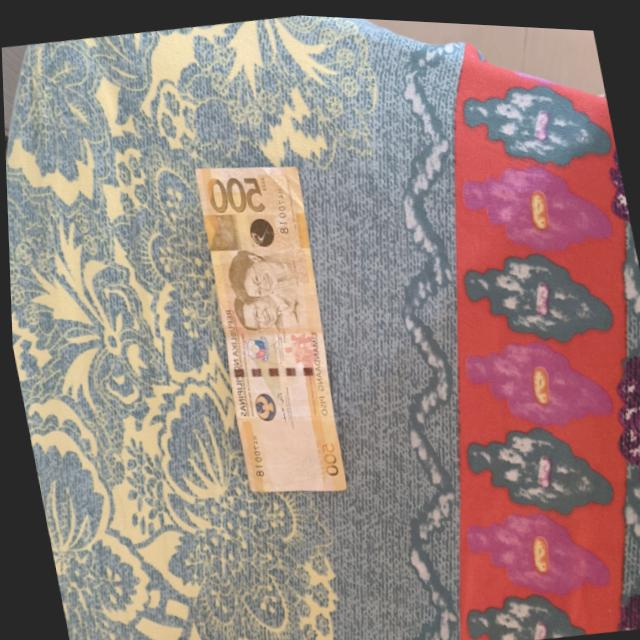concealed_value: (202, 209, 238, 250)
optically_variable_device: (244, 211, 275, 246)
see_through_mark: (298, 417, 326, 480)
watermark: (252, 409, 324, 492)
